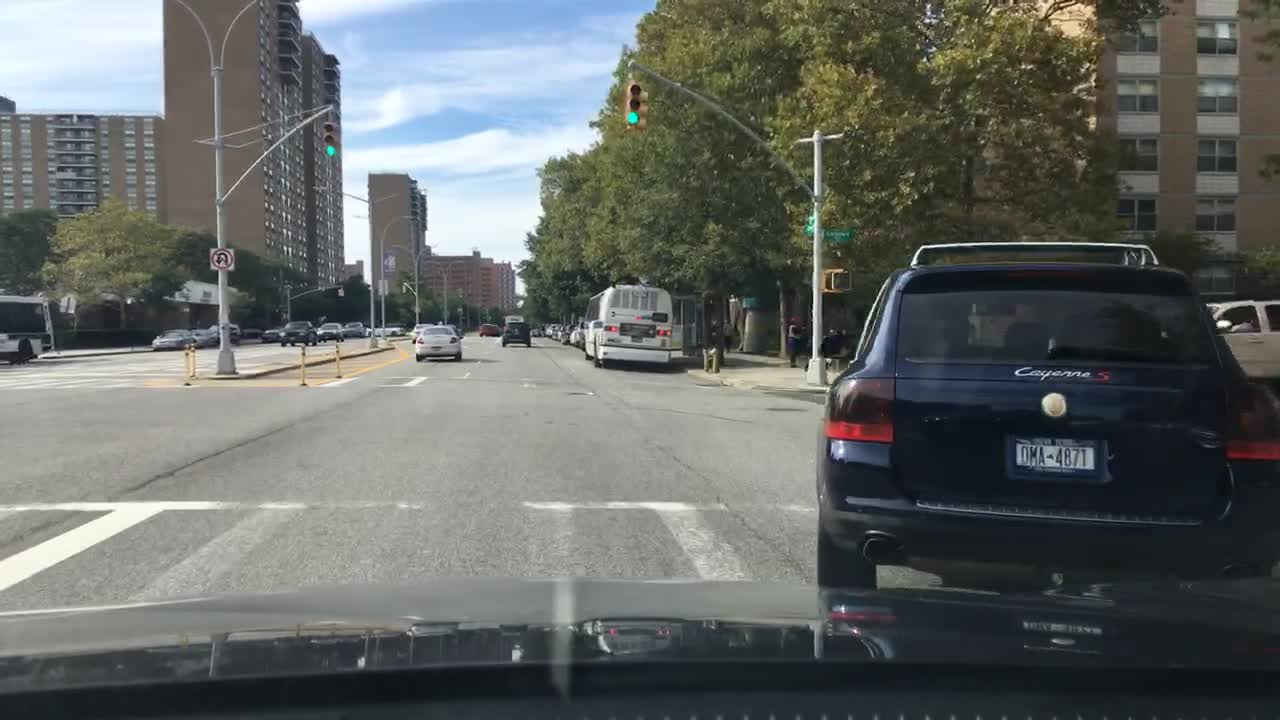bus: (583, 283, 674, 369), (0, 296, 55, 364)
car: (813, 241, 1278, 600), (1198, 296, 1277, 384), (808, 331, 861, 370), (412, 324, 465, 361), (278, 319, 319, 348), (502, 313, 533, 350), (150, 328, 192, 352), (315, 320, 346, 344), (408, 322, 440, 344), (216, 322, 243, 346), (339, 320, 364, 341), (188, 328, 214, 348), (570, 319, 586, 348), (557, 322, 577, 344), (478, 322, 504, 337), (383, 324, 407, 339), (258, 328, 282, 342), (550, 324, 568, 341), (542, 322, 561, 337), (528, 326, 542, 339), (361, 328, 375, 341)
person: (786, 315, 805, 368), (722, 317, 735, 354)
traffic light: (623, 81, 641, 128), (821, 269, 852, 294), (320, 121, 335, 156), (640, 86, 650, 128), (333, 284, 346, 298), (399, 278, 408, 295)
traffic sign: (209, 247, 234, 272), (56, 290, 77, 314), (823, 227, 854, 242), (742, 295, 761, 308), (375, 278, 388, 296), (441, 302, 451, 319)
